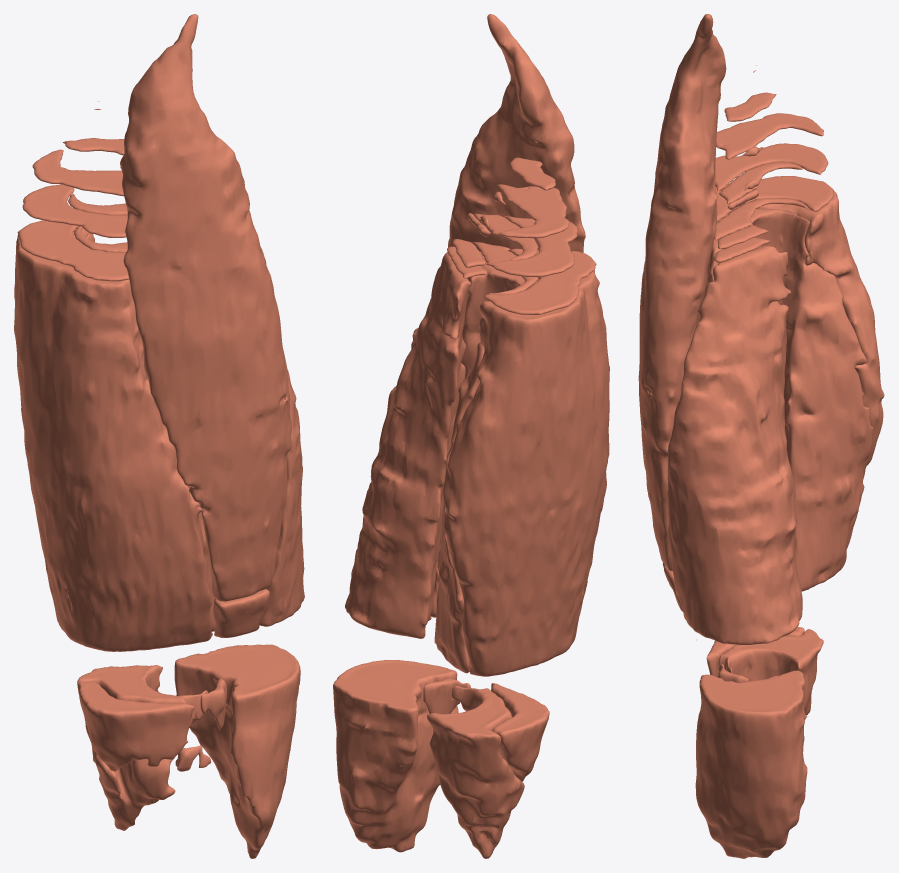
File: Quadriceps.nii.gltf
3 views of the same model, side by side, from view 1: azimuth 30°, elevation 25°; view 2: azimuth 150°, elevation 25°; view 3: azimuth 270°, elevation 25° (orthographic). The views are drawn at different scales.
Parts seen in each view (by area): view 1: Vastus Lateralis_R, Rectus Femoris_R, Vastus Medialis_R, Vastus Intermedius_R; view 2: Vastus Lateralis_R, Vastus Medialis_R, Vastus Intermedius_R, Rectus Femoris_R; view 3: Vastus Medialis_R, Vastus Intermedius_R, Rectus Femoris_R, Vastus Lateralis_R.
Boxes of the visible parts, x1,y1,x2,y2 form: Vastus Lateralis_R: (14, 101, 212, 771); Rectus Femoris_R: (120, 14, 291, 667); Vastus Medialis_R: (174, 370, 304, 858); Vastus Intermedius_R: (68, 167, 226, 830); Vastus Lateralis_R: (443, 135, 609, 781); Vastus Medialis_R: (333, 213, 490, 852); Vastus Intermedius_R: (423, 191, 538, 858); Rectus Femoris_R: (448, 14, 585, 254); Vastus Medialis_R: (667, 179, 807, 858); Vastus Intermedius_R: (704, 146, 873, 715); Rectus Femoris_R: (638, 14, 726, 640); Vastus Lateralis_R: (706, 65, 884, 677).
Bounding box in the file's own units: 0.1498 × 0.485 × 0.1334.
